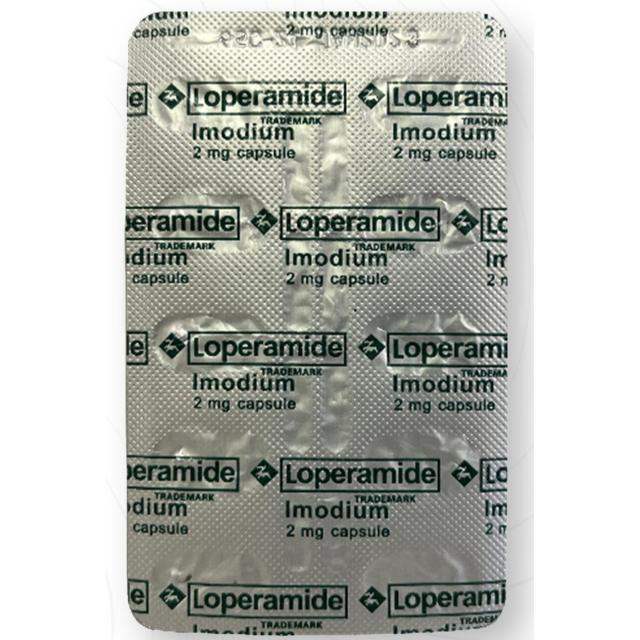blister: (124, 6, 512, 636)
